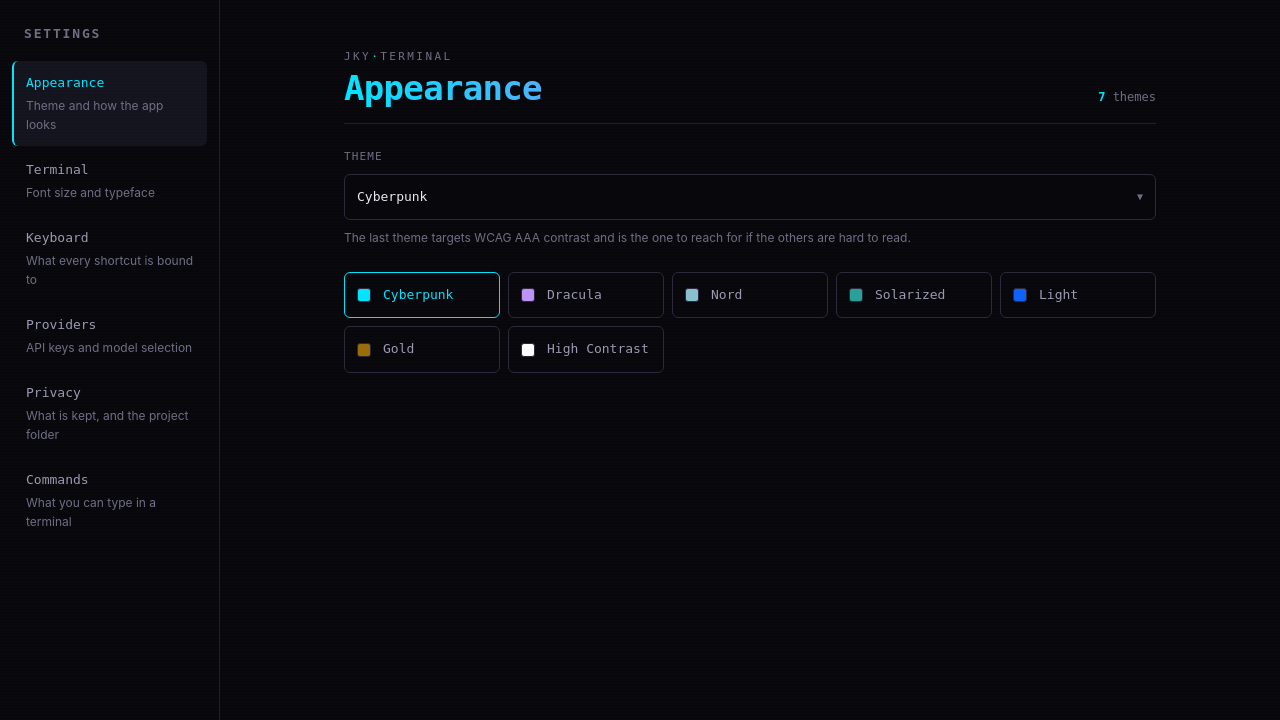
the Privacy panel › sets the project folder, and shows a refusal plainly
Click the button "Privacy What is kept, and the project folder" at (110, 414), box 12,371 -> 207,456
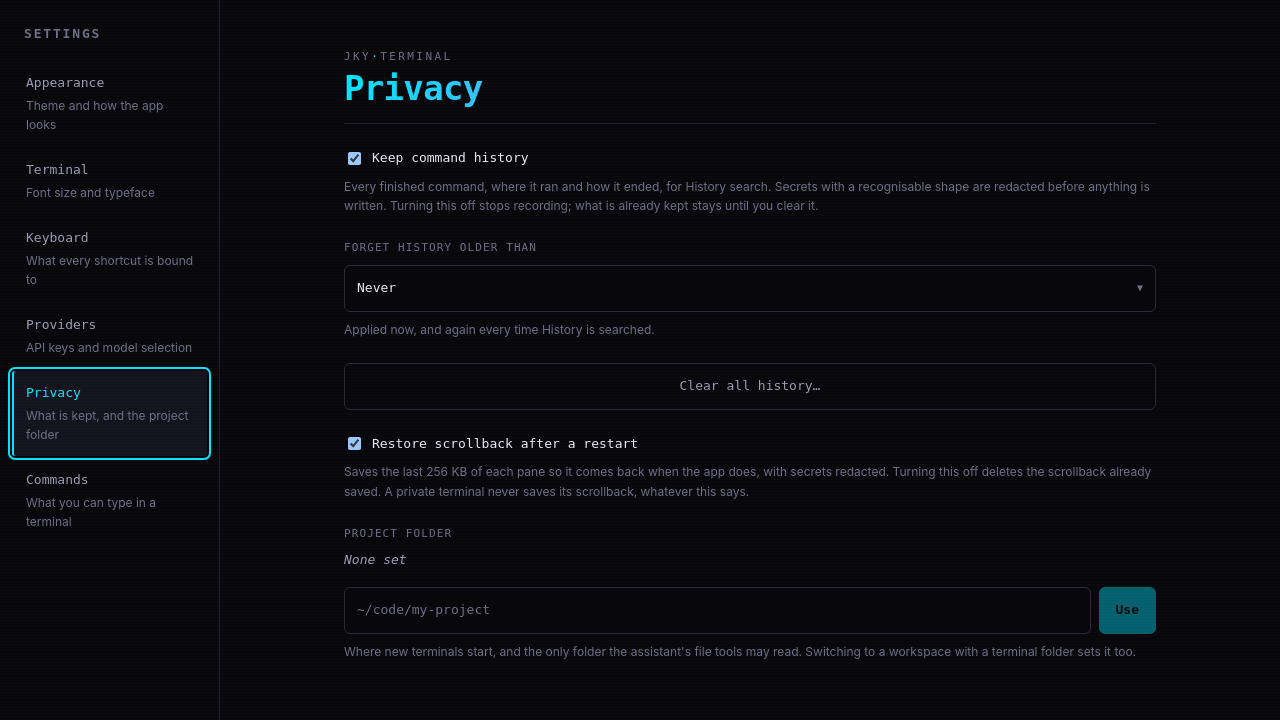
Now the heading "Privacy" is shown, box 344,70 -> 1140,107
Type "~/nope" into the dropdown named "project folder" at (717, 610), box 344,587 -> 1090,634
Then press Enter
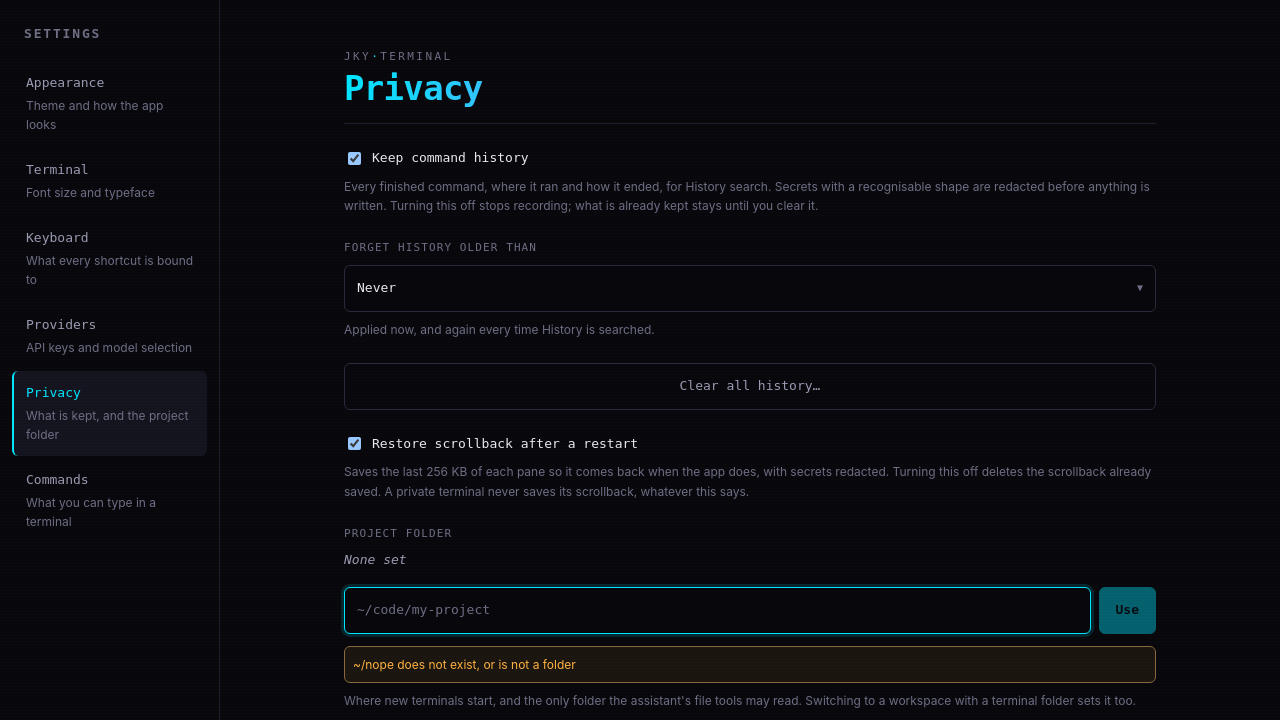
Now the text "~/nope does not exist, or is not a folder" is shown, box 344,646 -> 1156,683
Type "~/code/api" into the dropdown named "project folder" at (717, 610), box 344,587 -> 1090,634
Then press Enter
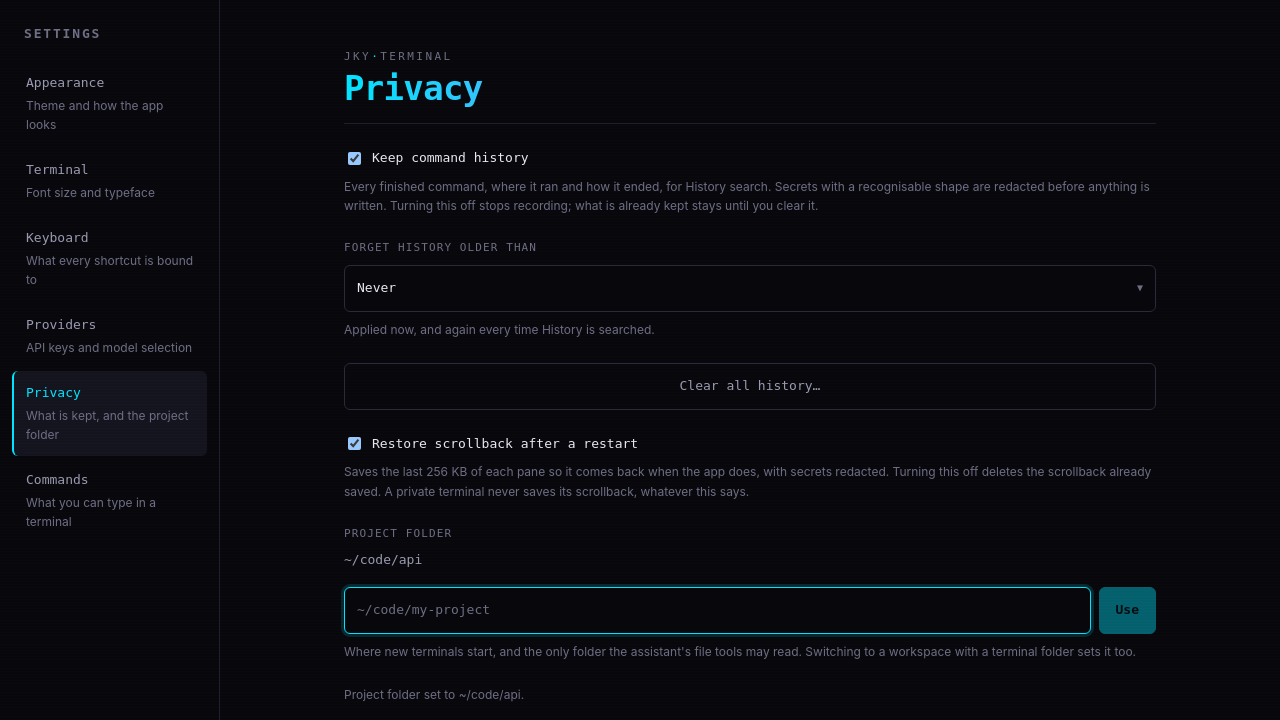
Now the message reads "Project folder set to ~/code/api.", box 344,687 -> 524,702
Now the text "~/code/api" is shown, box 344,552 -> 422,567
